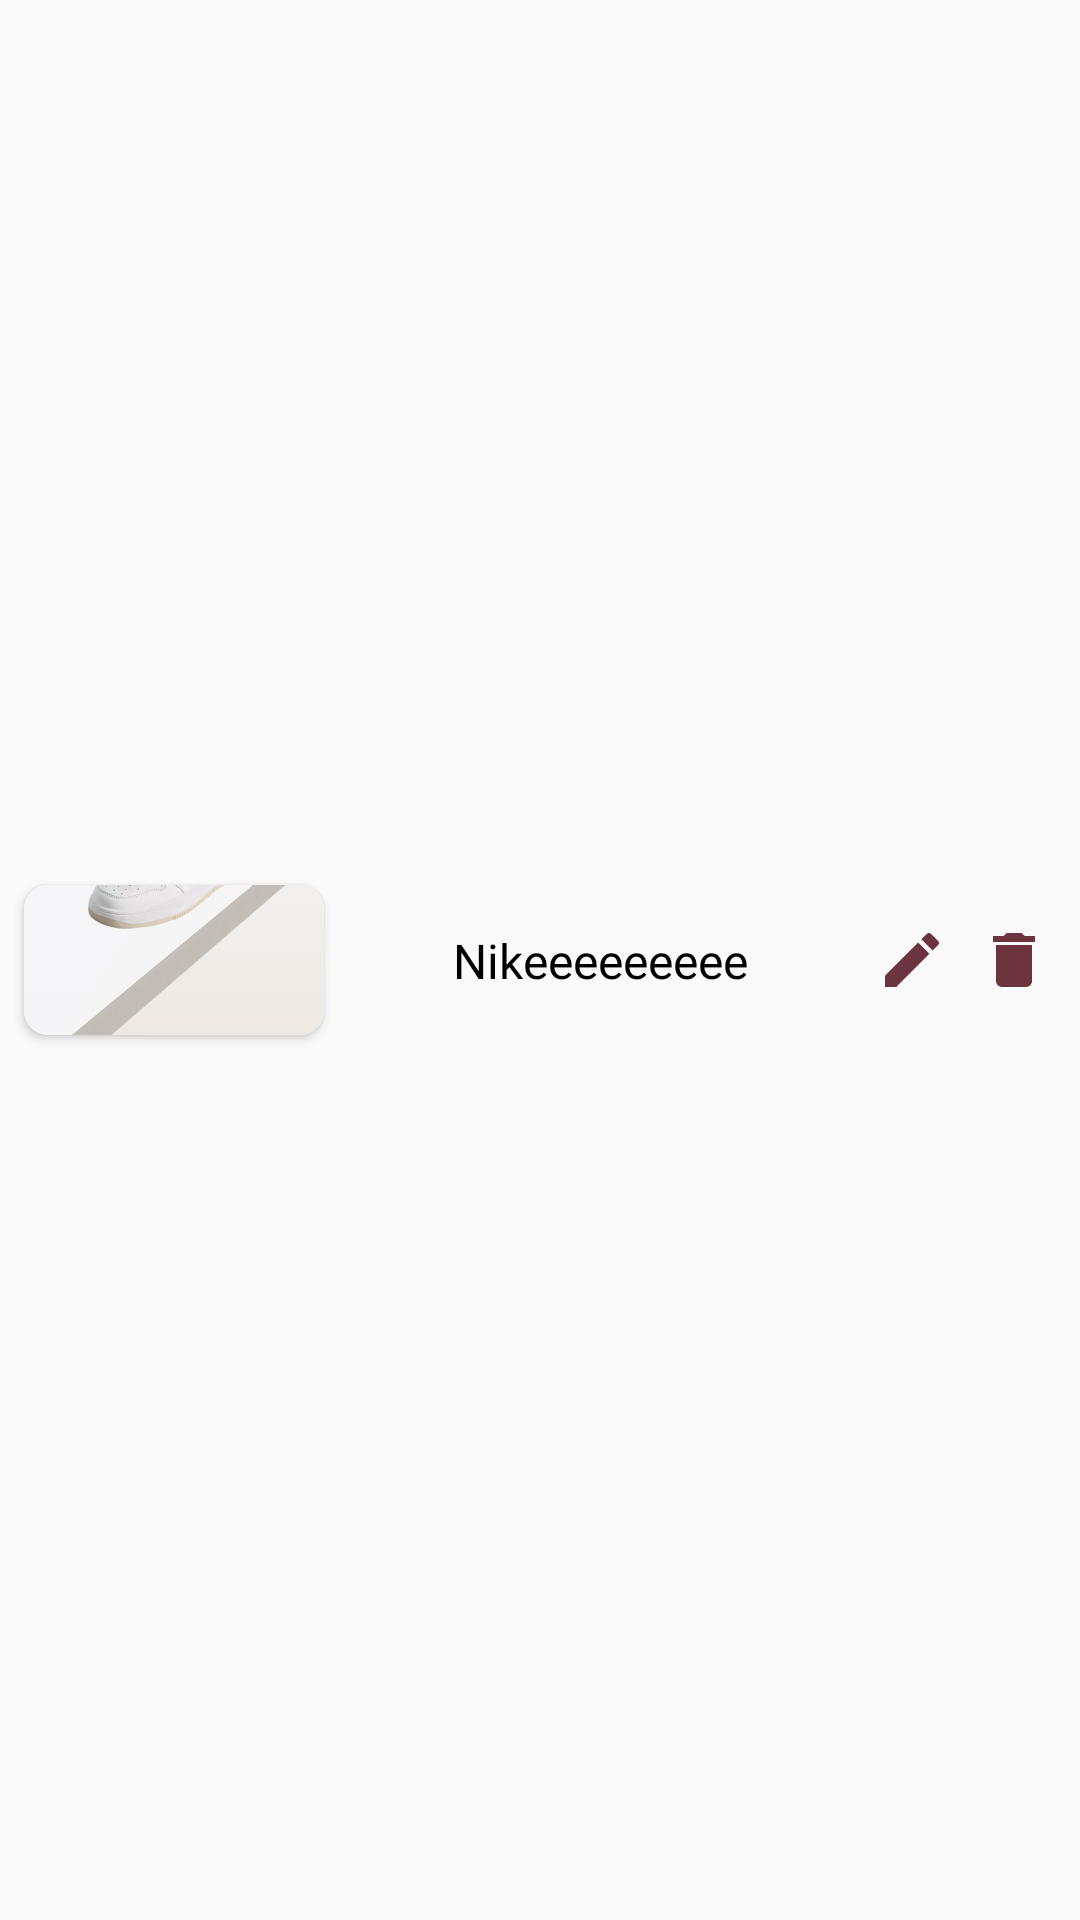

Locate icon controls on the screen. Image size 1080×1920, boxes as (x1, y1, x2, y2).
delete: (993, 933, 1035, 987)
edit: (885, 933, 939, 987)
